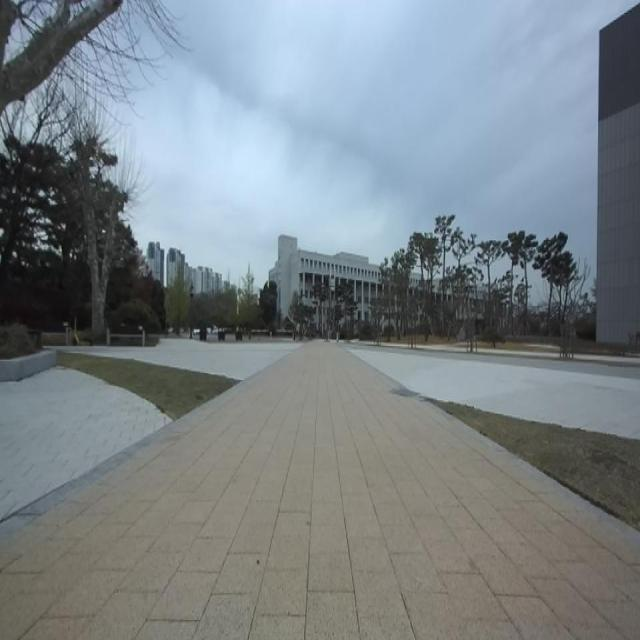sidewalk: (0, 342, 640, 639)
